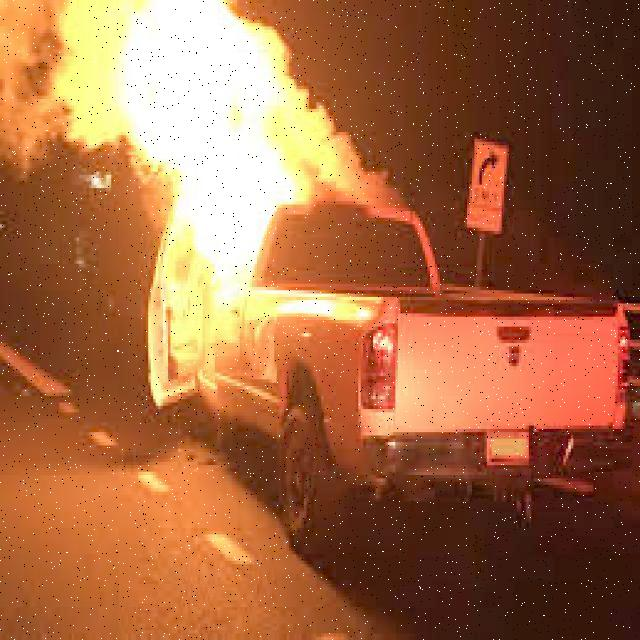fire: (83, 1, 364, 264)
